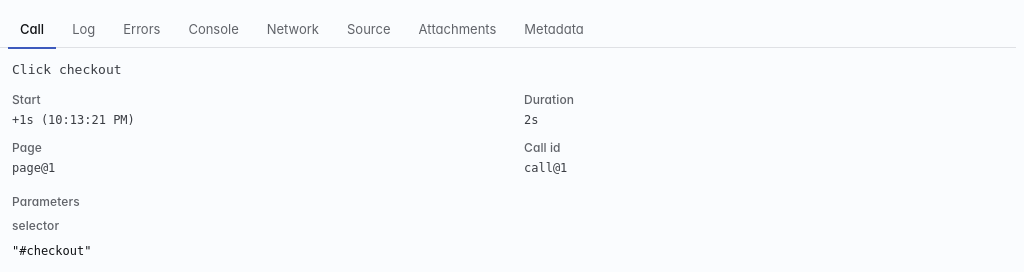
Test: DetailTabs — Log tab timeline selection › shows a selection-empty message when no entries fall in the window
Click the tab "Log".
click(84, 30)  # box [60,12,107,48]
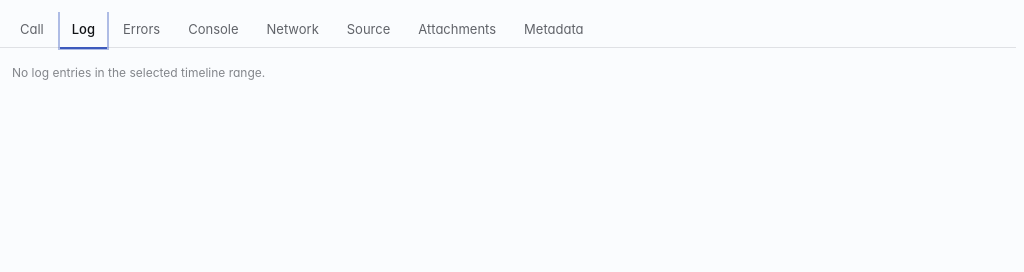
Now the text "No log entries in the selected timeline range." is shown, box [12,64,265,80]
